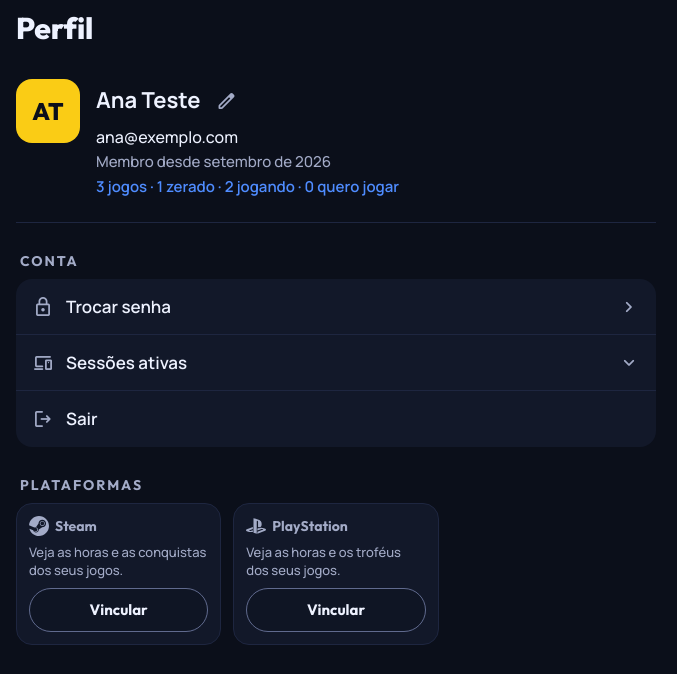
Test: nome editável (CA-04) › Editar abre o campo com o nome atual e o foco nele
Click the button named "Editar nome" at (226, 101), box x1=204 y1=79 x2=248 y2=123
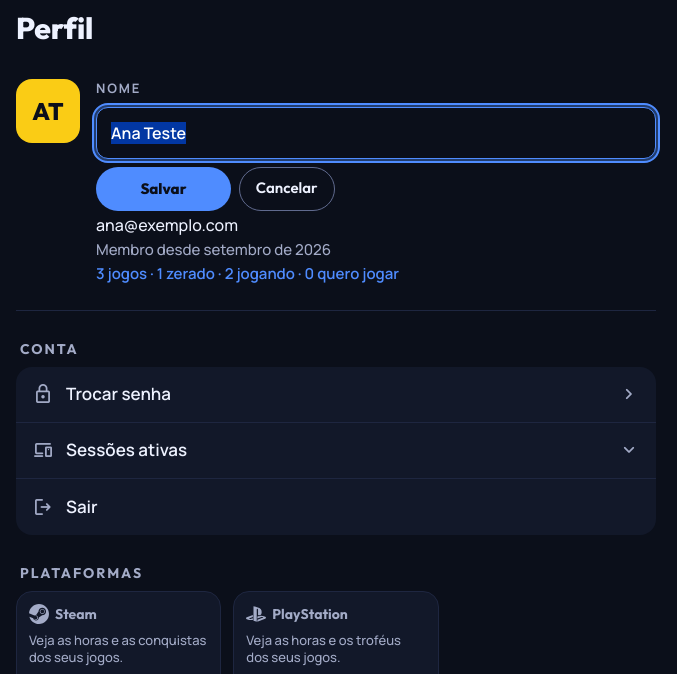
Now the field labelled "Nome" holds "Ana Teste", box x1=96 y1=106 x2=656 y2=158
